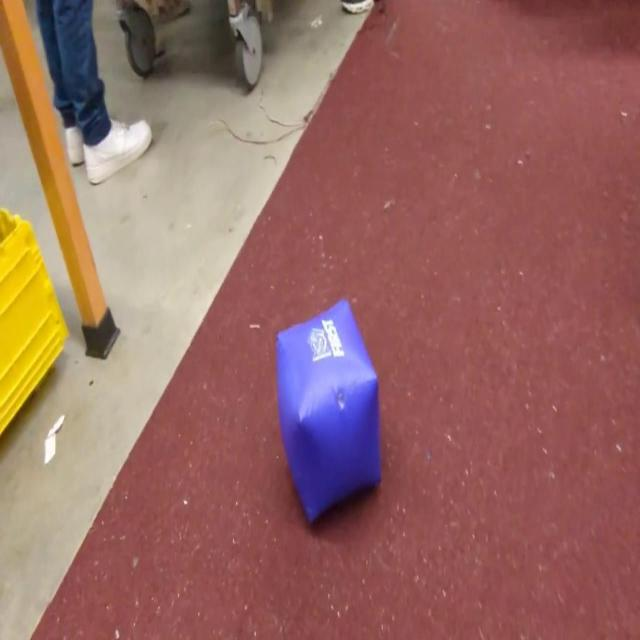frc_cube: (274, 298, 379, 530)
